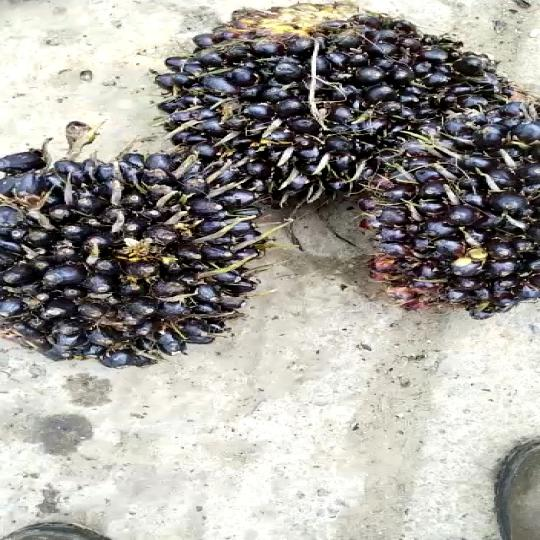mentah: (136, 2, 497, 206), (0, 146, 288, 371), (360, 102, 540, 332)
